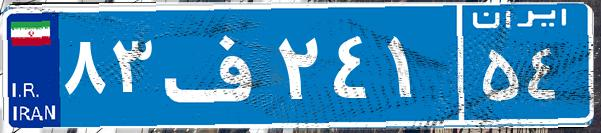1: (385, 28, 445, 110)
2: (273, 28, 330, 110)
3: (110, 28, 158, 105)
4: (330, 28, 385, 110), (525, 38, 570, 115)
5: (475, 38, 525, 113)
8: (57, 26, 110, 107)
ف: (158, 15, 273, 115)
